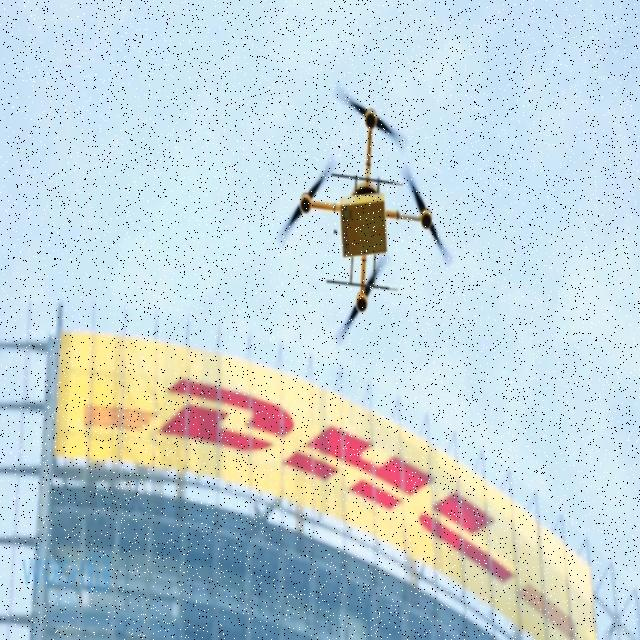UAV: (277, 83, 452, 343)
